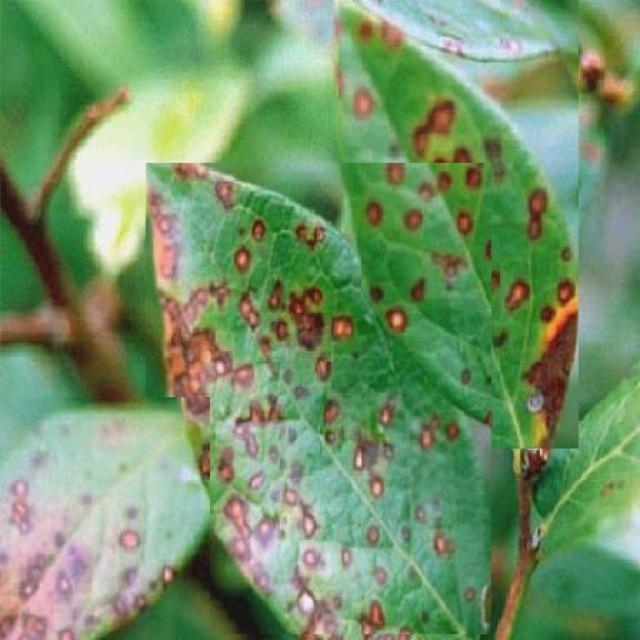Septoria: (146, 162, 491, 634), (338, 0, 578, 449), (0, 398, 210, 640)
